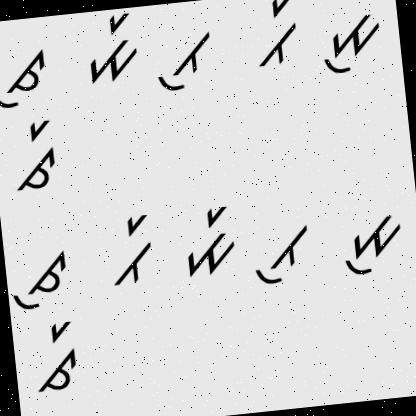bar: (98, 210, 158, 292), (242, 0, 305, 70)
baw: (248, 212, 314, 290), (150, 22, 218, 94)
car: (5, 115, 66, 196), (27, 314, 82, 396)
caw: (8, 244, 76, 312), (0, 41, 53, 116)
mar: (172, 199, 242, 283), (73, 6, 142, 86)
maw: (336, 202, 408, 282), (316, 2, 384, 84)
